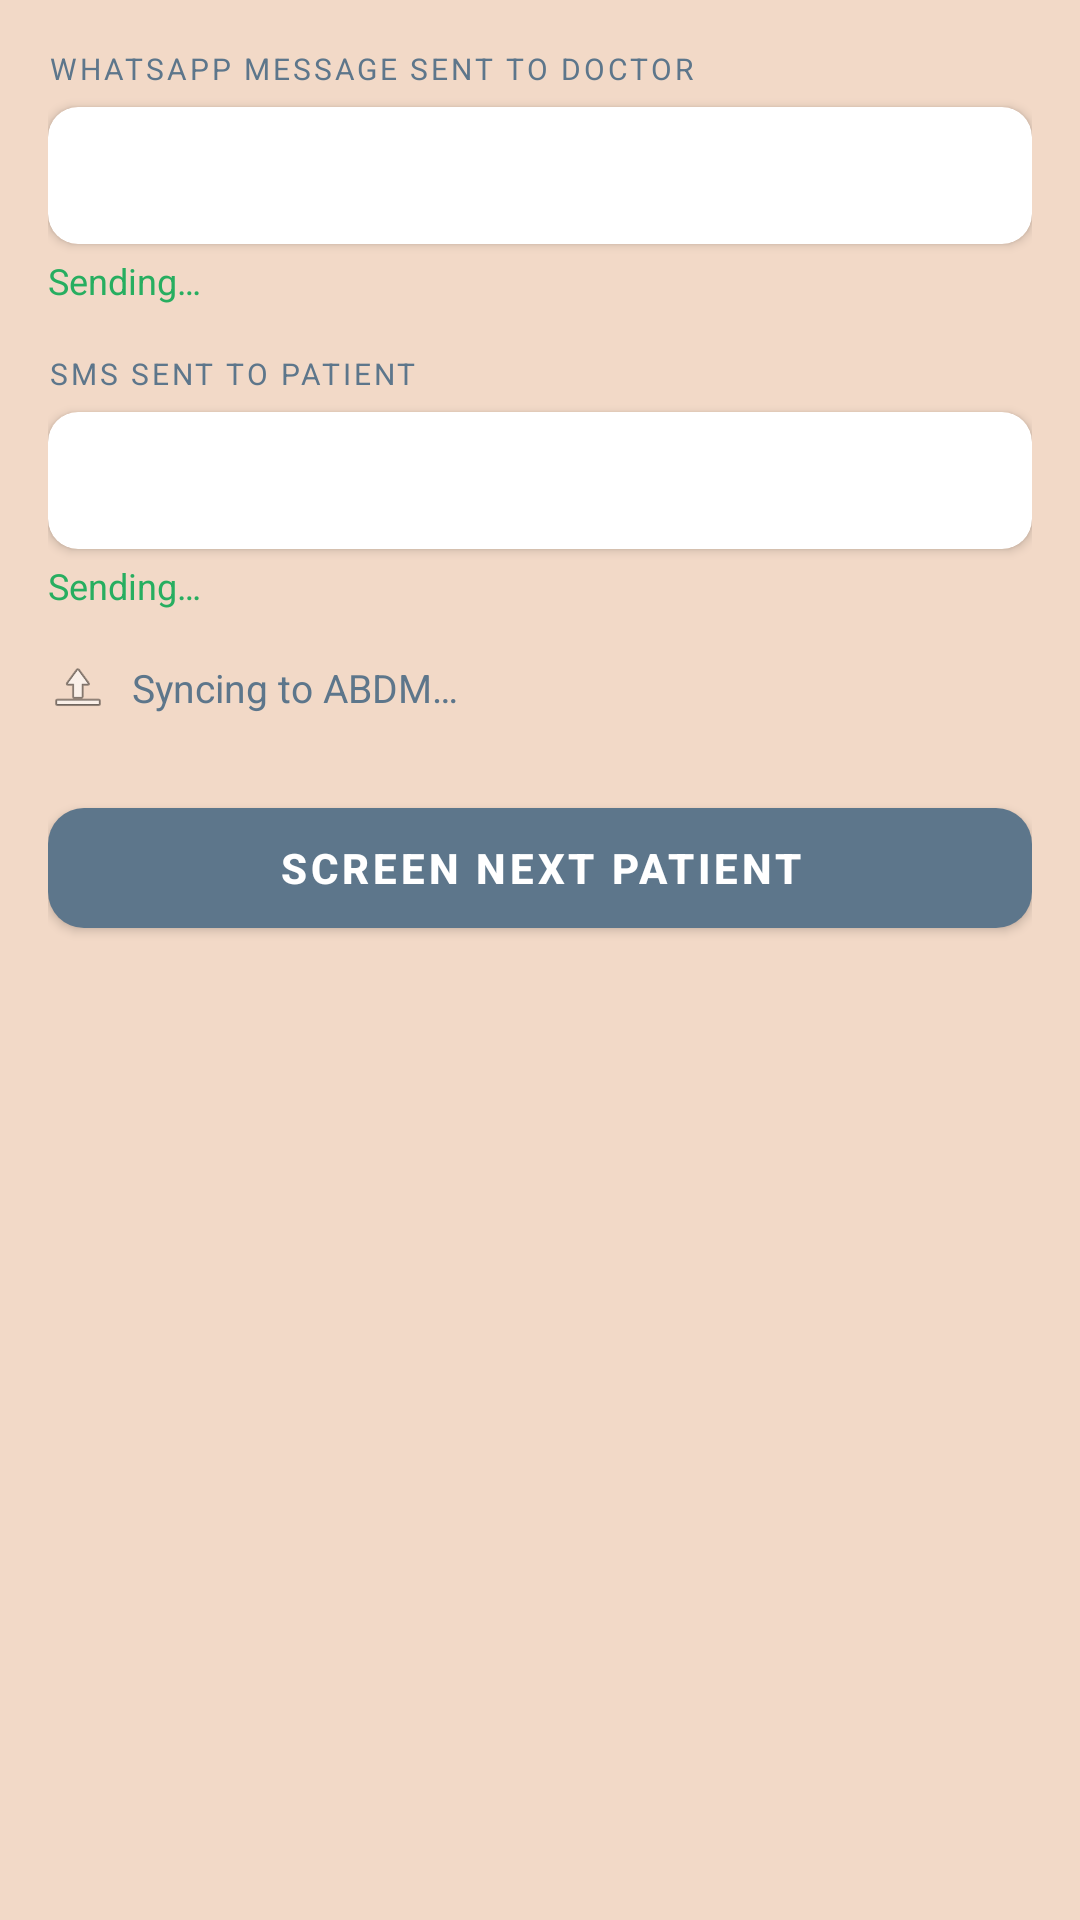

Named icons in this screenshot (1080px x 1920px) and their bounding boxes, bbox(x1, y1, x2, y2):
upload: bbox(55, 668, 101, 706)
